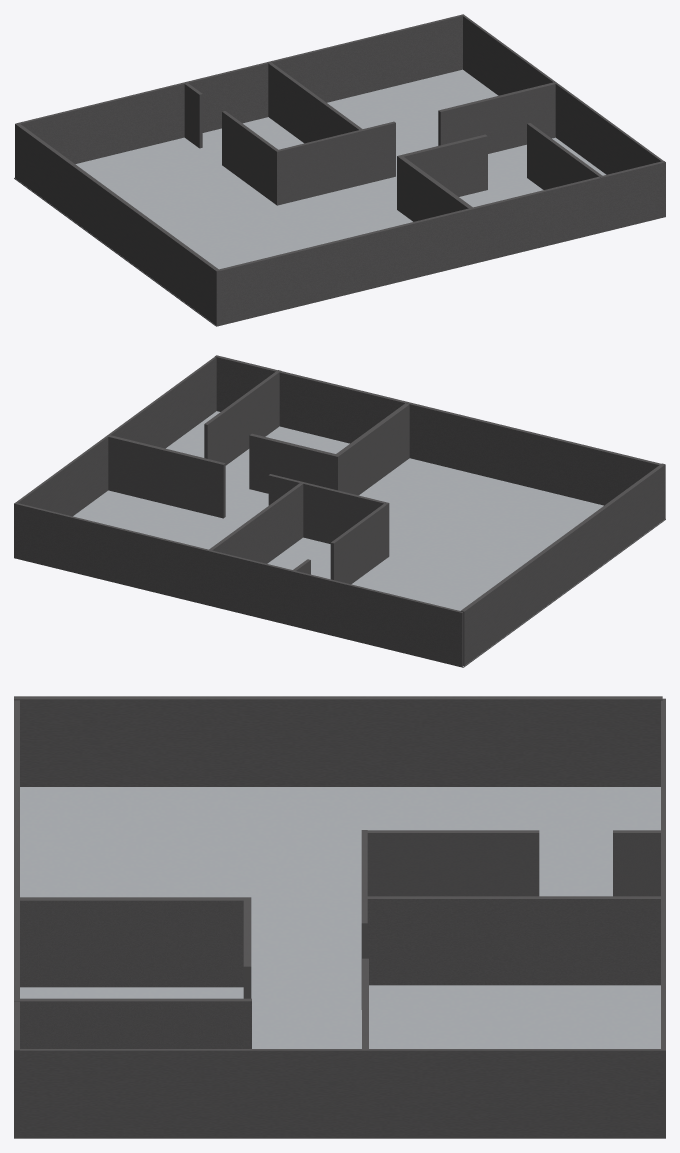
Rendered from Architecture_Sous_sol.dae.
3 renders of one model, top to bottom at view 1: azimuth 30°, elevation 25°; view 2: azimuth 150°, elevation 25°; view 3: azimuth 270°, elevation 25°, orthographic. The views are drawn at different scales.
Visible parts, largest first — view 1: Cube; view 2: Cube; view 3: Cube.
Part boxes in pixels (left/top/right/bottom): Cube: left=14, top=14, right=665, bottom=326; Cube: left=14, top=355, right=665, bottom=667; Cube: left=14, top=696, right=665, bottom=1138.
Bounding box in the file's own units: 77.34 × 60.33 × 9.1.
Materials: 2 (2 with a texture image).
